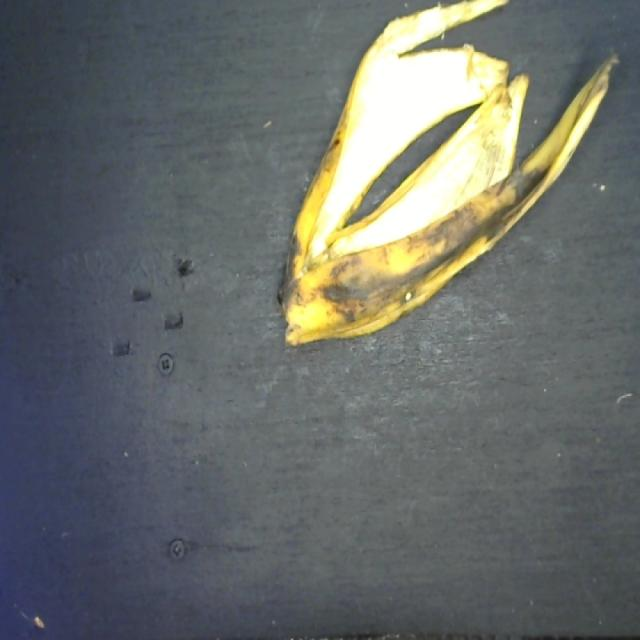biodegradable: (275, 0, 626, 359)
